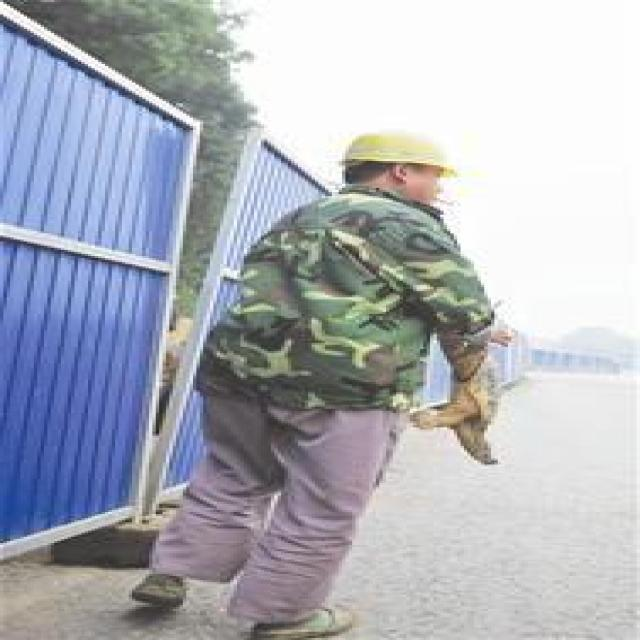helmet: (328, 122, 454, 208)
